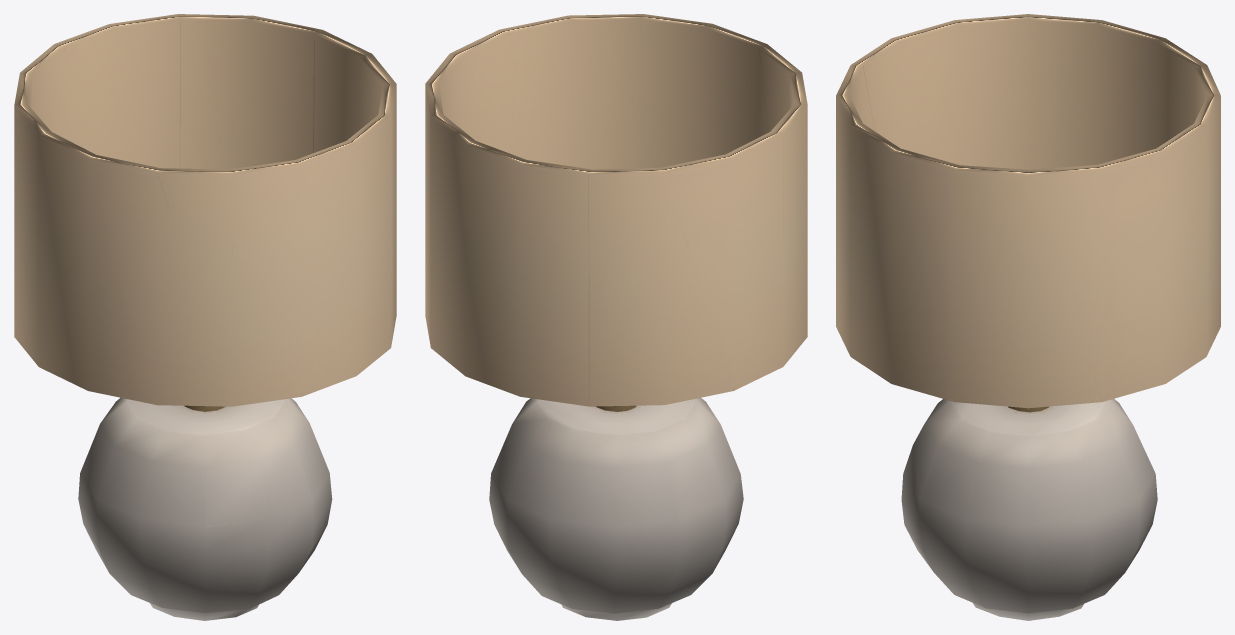
The model's file is table_lamp.glb.
The picture shows the model from 3 angles, left to right: view 1: azimuth 30°, elevation 25°; view 2: azimuth 150°, elevation 25°; view 3: azimuth 270°, elevation 25°; orthographic projection.
Bounding box in the file's own units: 0.6636 × 0.9521 × 0.6636.
Materials: 1 (1 with a texture image).
